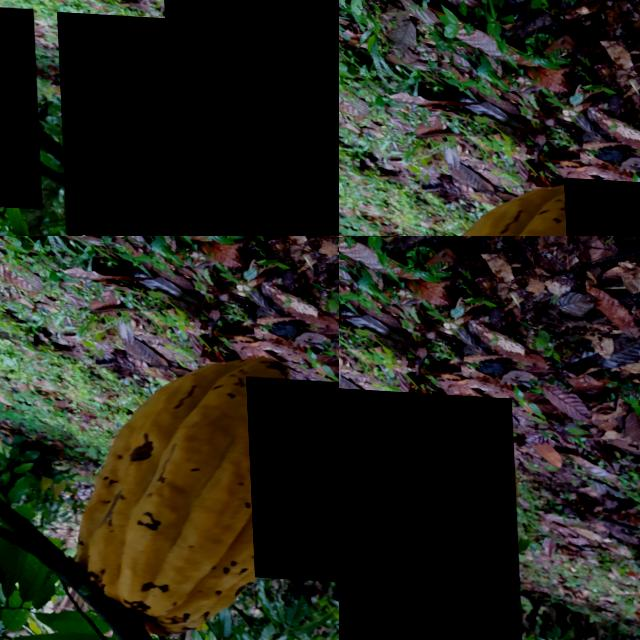Monilia: (157, 0, 339, 236)
Sana: (55, 10, 334, 236), (339, 382, 519, 640), (244, 372, 339, 579), (0, 6, 37, 208)
